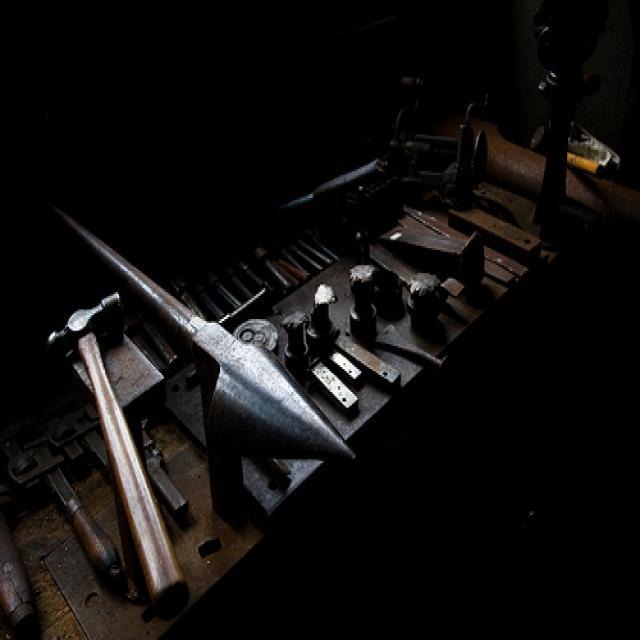hammer: (41, 286, 198, 632)
